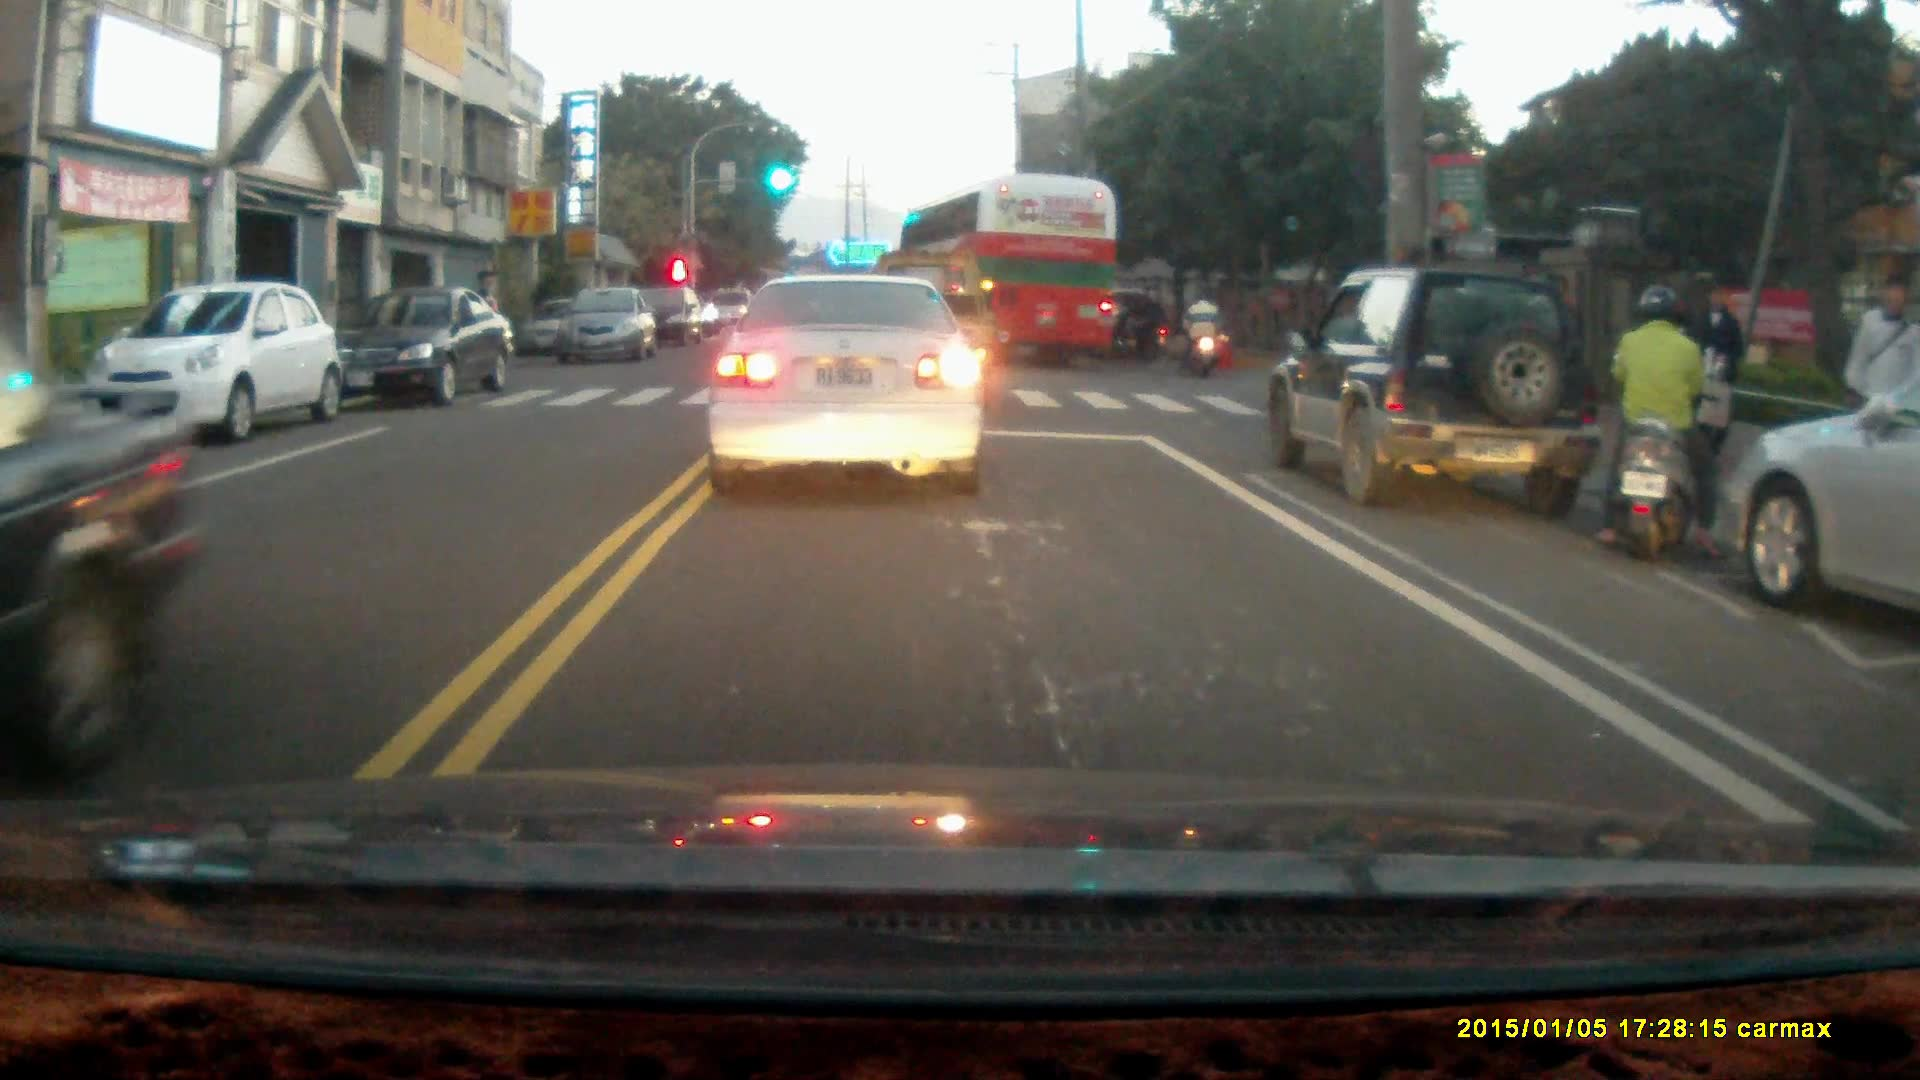pedestrian: (1845, 272, 1919, 462), (1689, 277, 1748, 474)
rider: (1591, 287, 1729, 560), (1104, 290, 1172, 366), (1180, 287, 1225, 378)
vehicle: (2, 310, 196, 750), (1266, 271, 1611, 518), (701, 271, 989, 499), (1714, 364, 1920, 627), (892, 172, 1123, 376), (89, 282, 341, 443), (330, 287, 517, 408), (555, 286, 652, 370), (626, 286, 712, 354)
